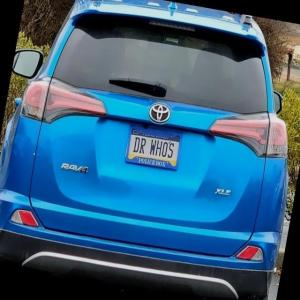Plate: (123, 123, 184, 172)
